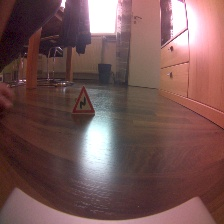vorsicht: (70, 85, 97, 115)
